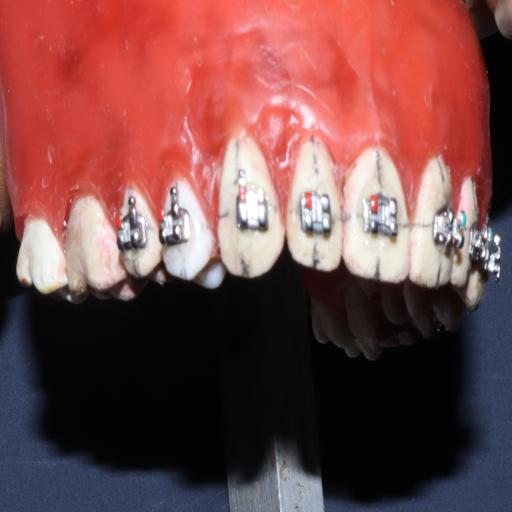incorrect_brace: (234, 181, 268, 234)
